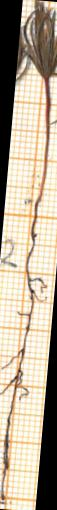flower: (18, 0, 57, 87)
root: (0, 203, 54, 504)
stem: (30, 86, 57, 204)
